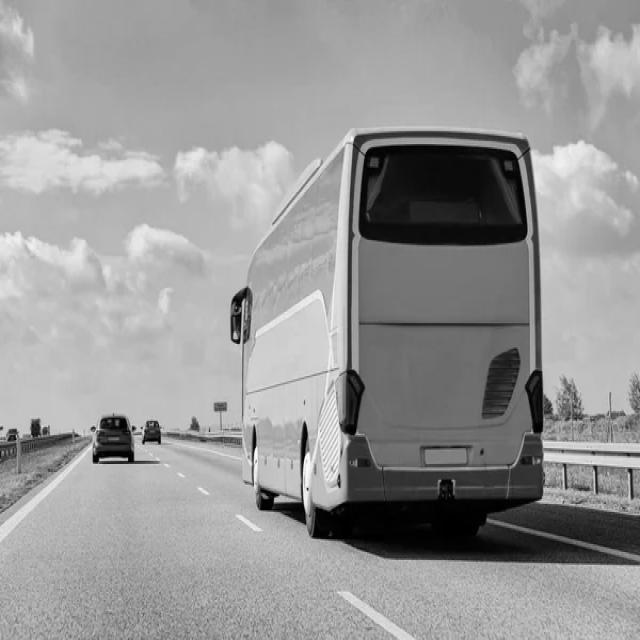Bus: (231, 130, 544, 538)
Car: (92, 416, 134, 464), (142, 421, 161, 445)
